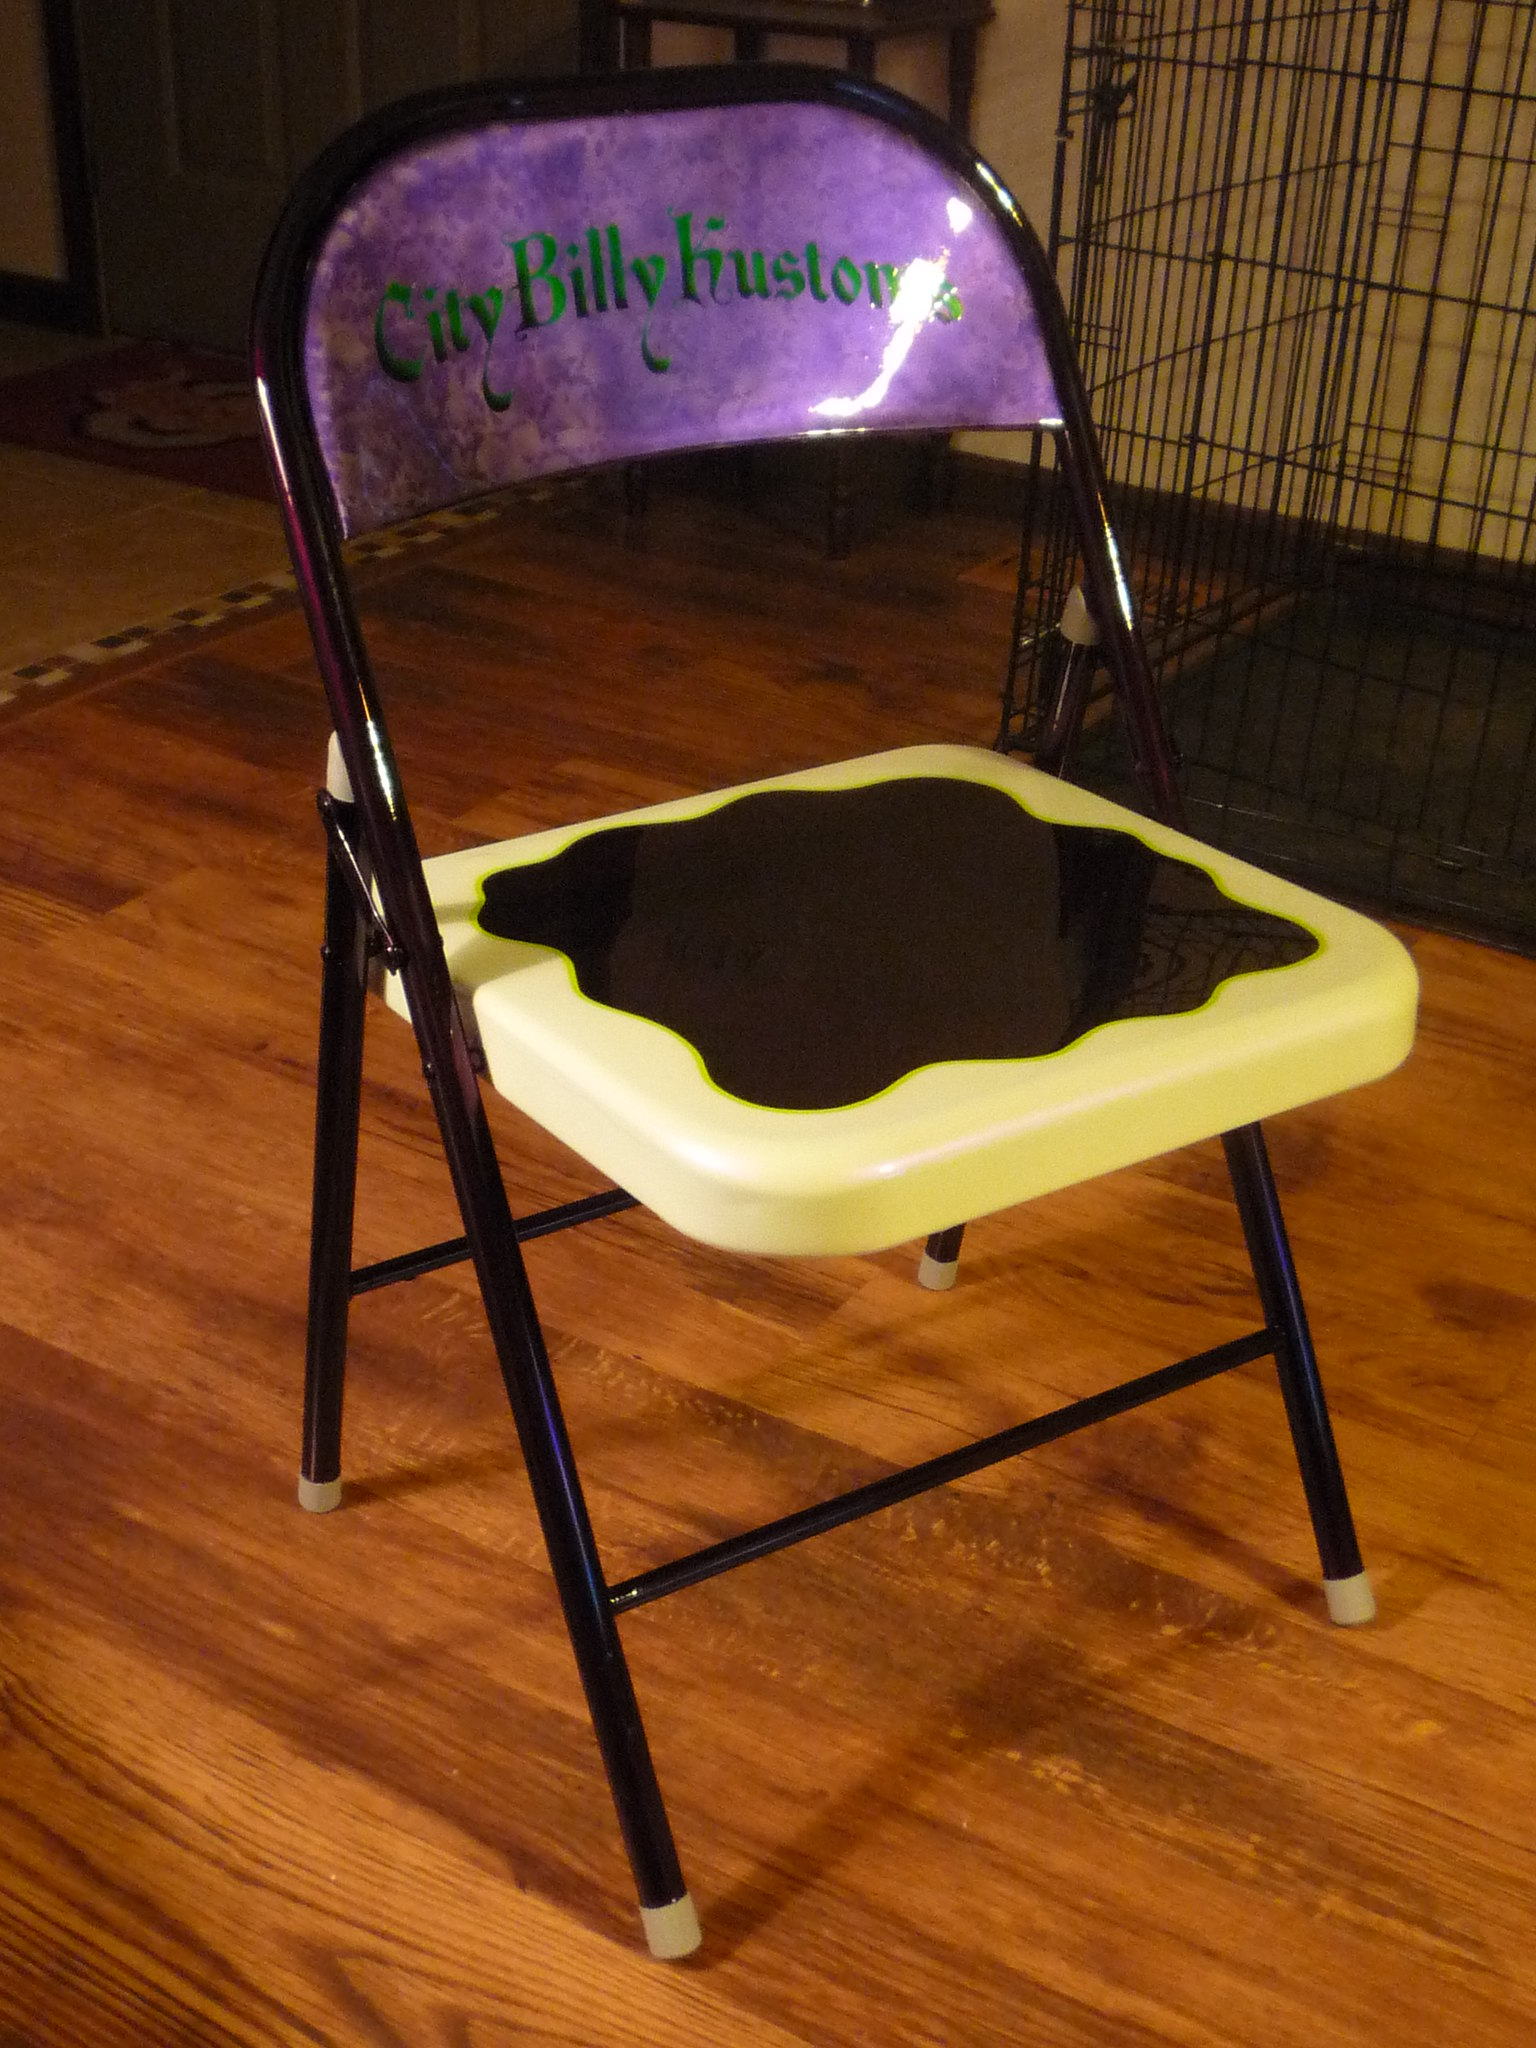chair: (131, 73, 1505, 1945)
